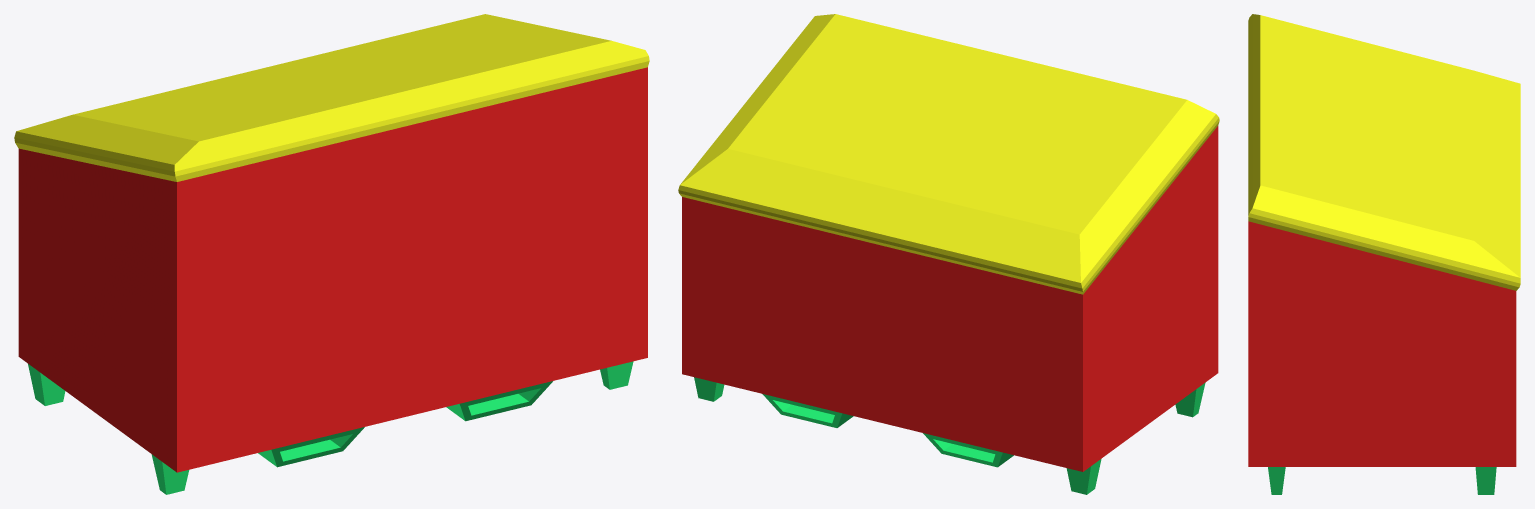
Rendered from dumpsterSmall.FBX.
The picture shows the model from 3 angles, left to right: view 1: azimuth 30°, elevation 25°; view 2: azimuth 150°, elevation 25°; view 3: azimuth 270°, elevation 25°; orthographic projection. The views are drawn at different scales.
Parts seen in each view (by area): view 1: Dumpster_Small; view 2: Dumpster_Small; view 3: Dumpster_Small.
Part boxes in pixels (x1,y1,x2,y2): Dumpster_Small: (14,14,649,494); Dumpster_Small: (678,14,1219,494); Dumpster_Small: (1248,14,1520,494).
Bounding box in the file's own units: 72.52 × 51.89 × 42.69.
